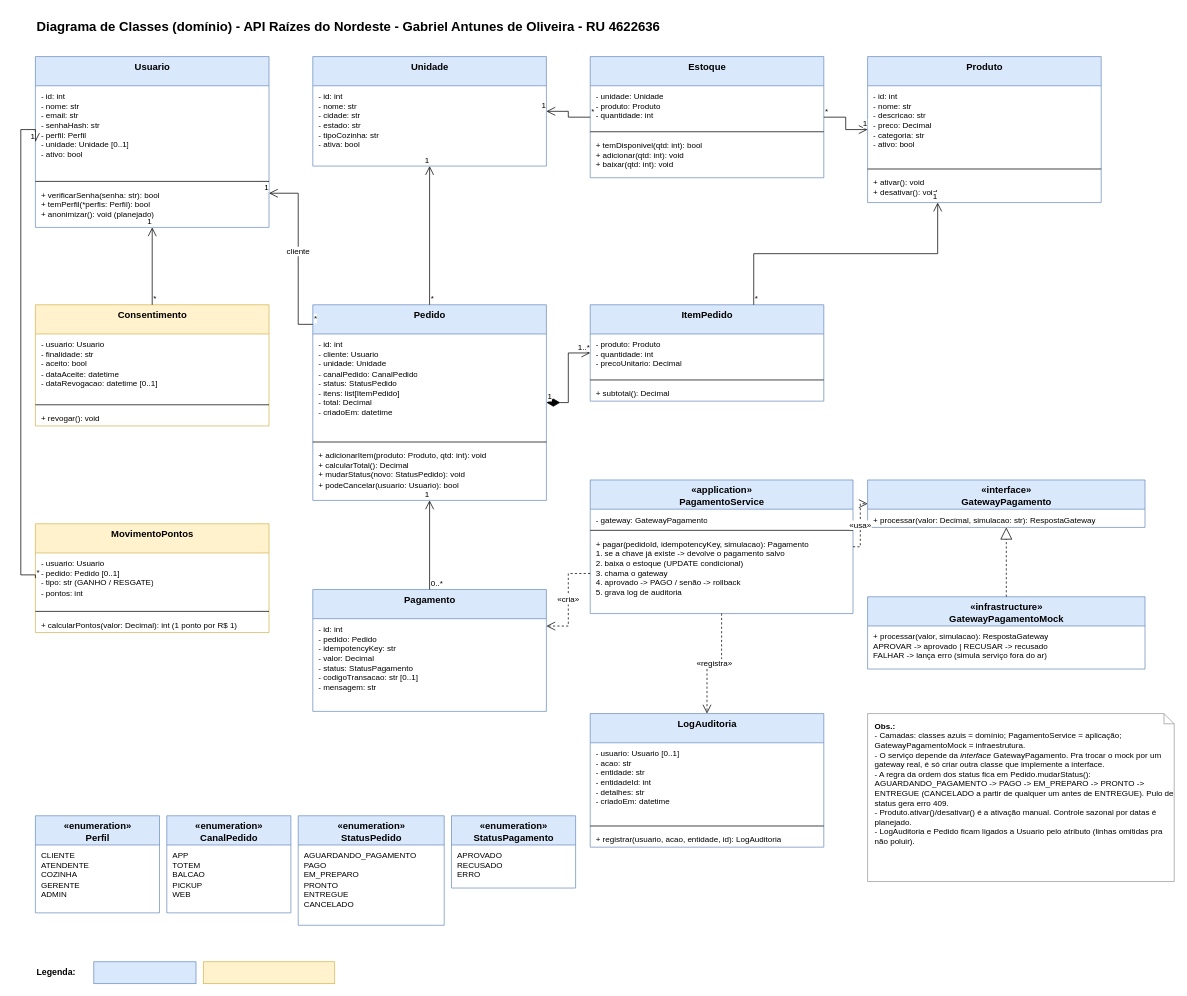
The diagram is 1187 pixels wide and 996 high, and some of its shapes have lost their labels. Here are the shapes that lost their labels. From the top down, the centre of each, then its label:
the point at 144,972: Núcleo (Fluxo A)
the point at 269,972: Complementar (fidelidade)
